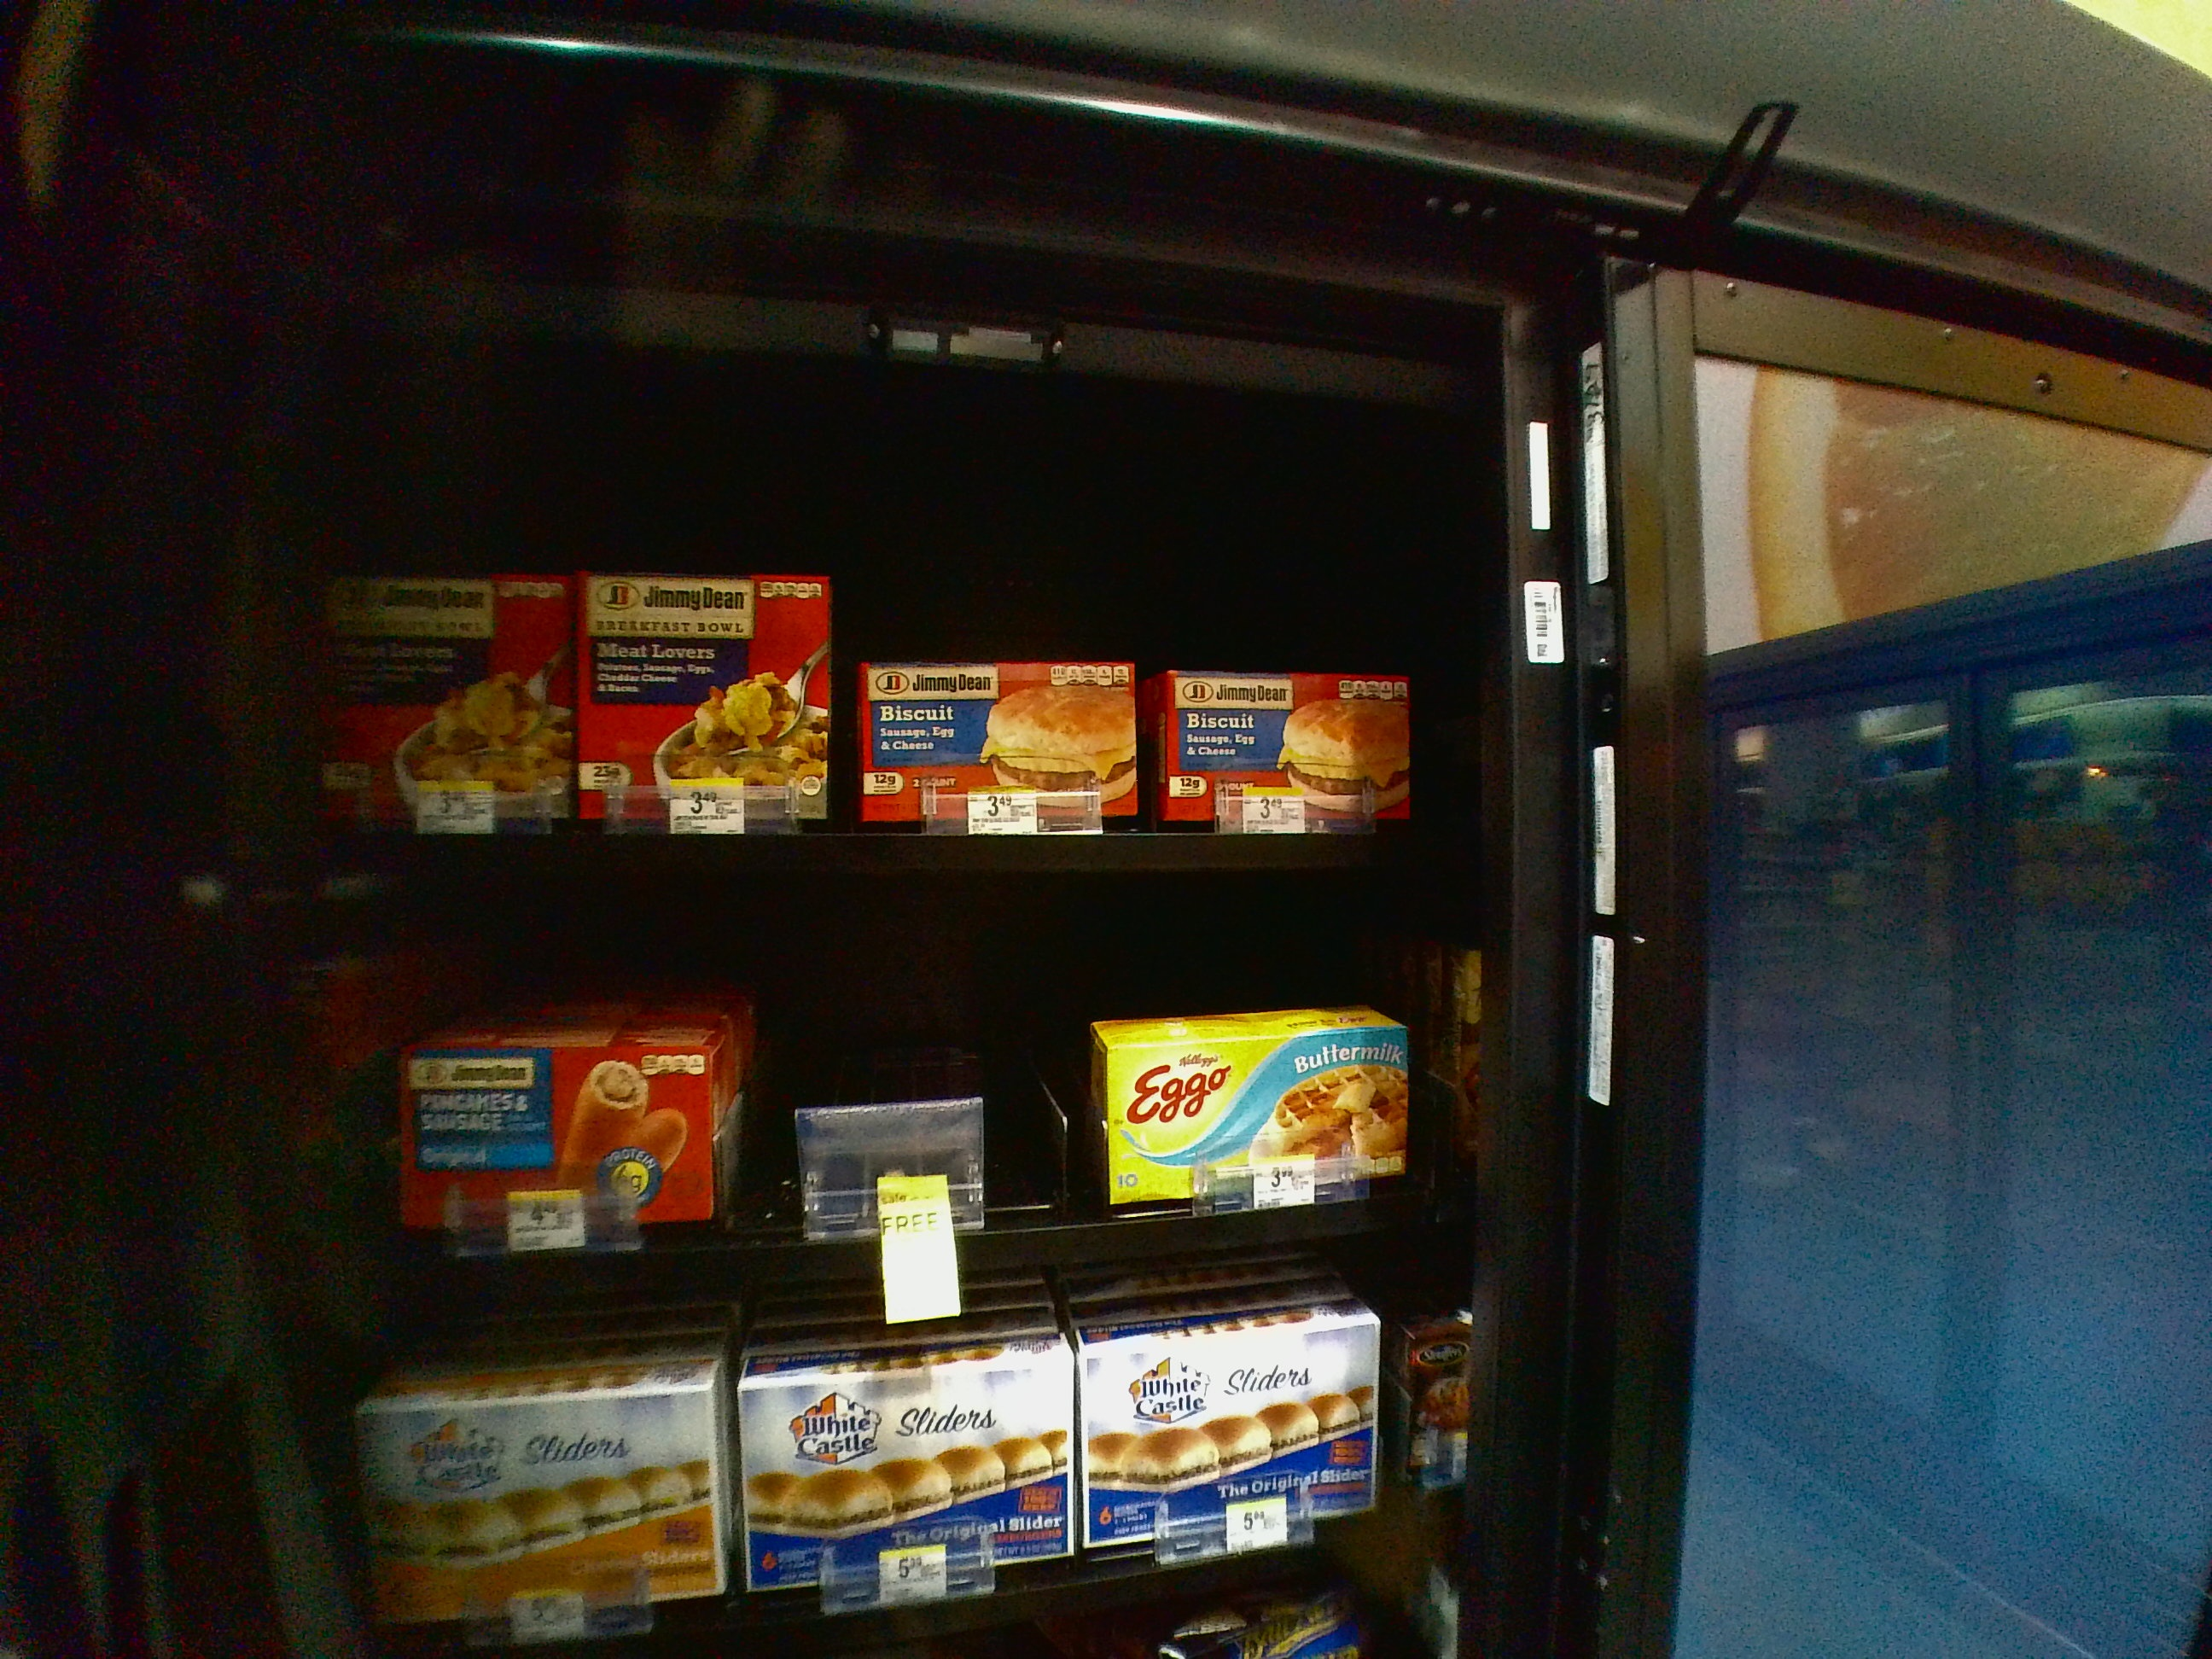shelf: (320, 416, 1480, 882), (320, 894, 1456, 1300)
